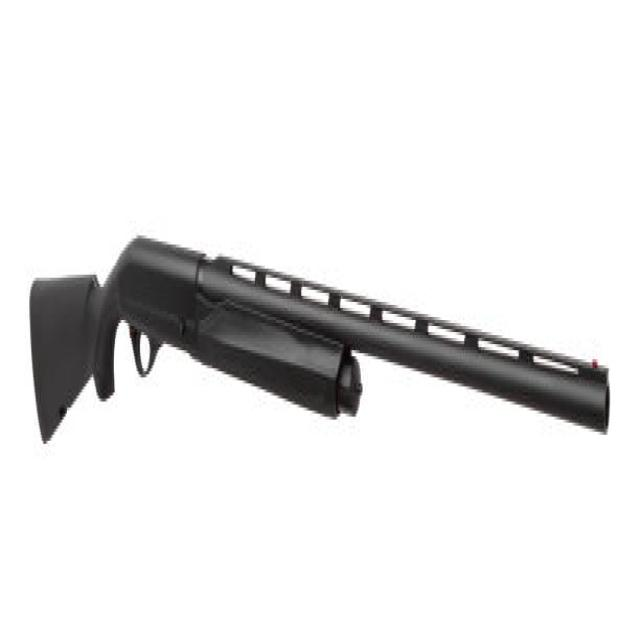rifle: (29, 202, 615, 471)
